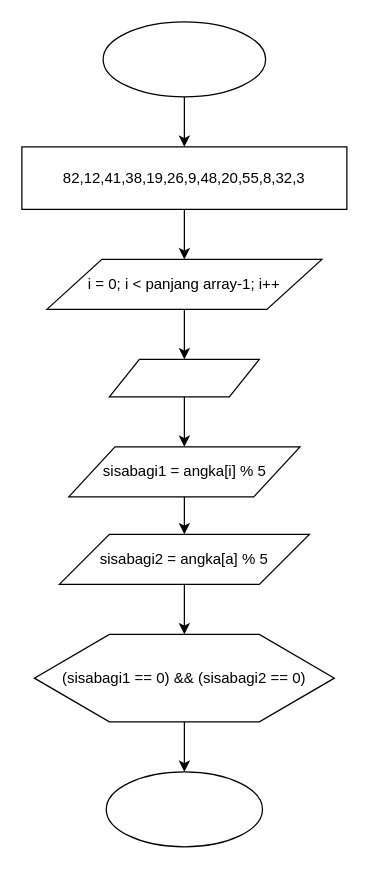
The diagram is 369 pixels wide and 869 high, and some of its shapes have lost their labels. Here are the shapes that lost their labels. From the top down, the centre of each, then its label:
At point 184,59: "Mulai".
At point 183,377: "a = i + 1".
At point 183,809: "Selesai".
